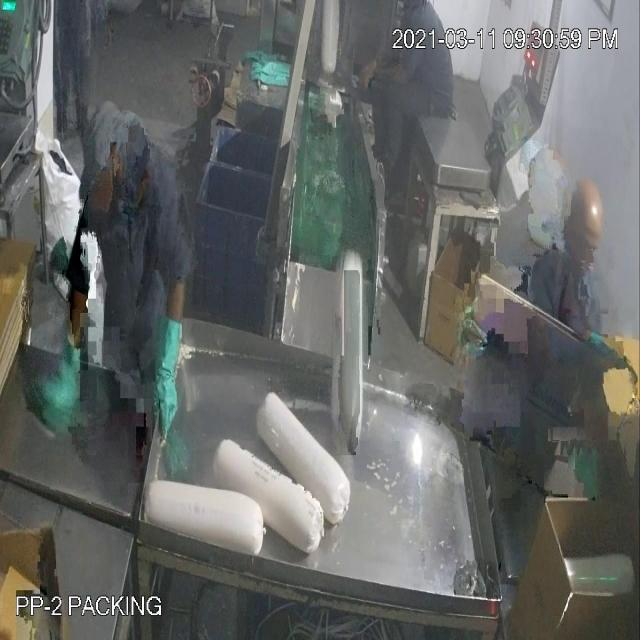Gloves: (146, 305, 194, 443)
